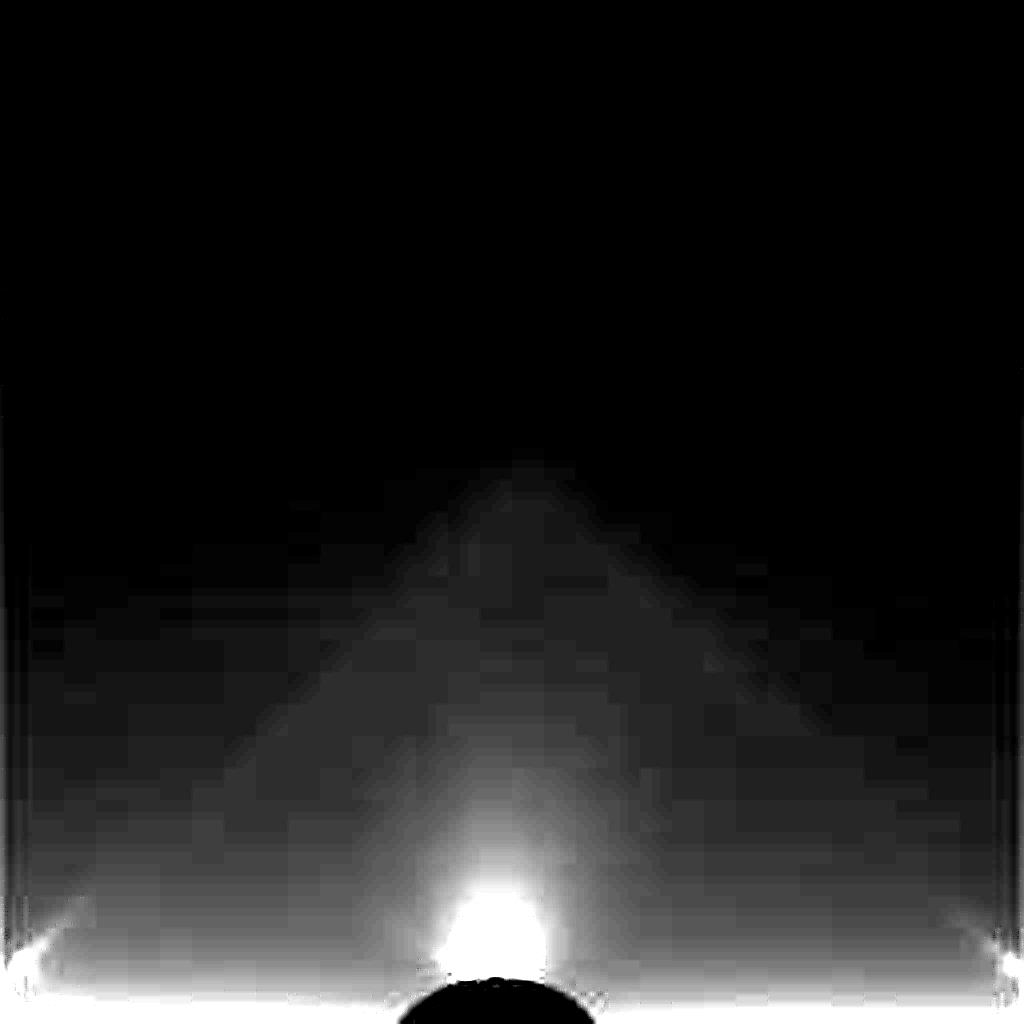plumes: (434, 892, 547, 982)
